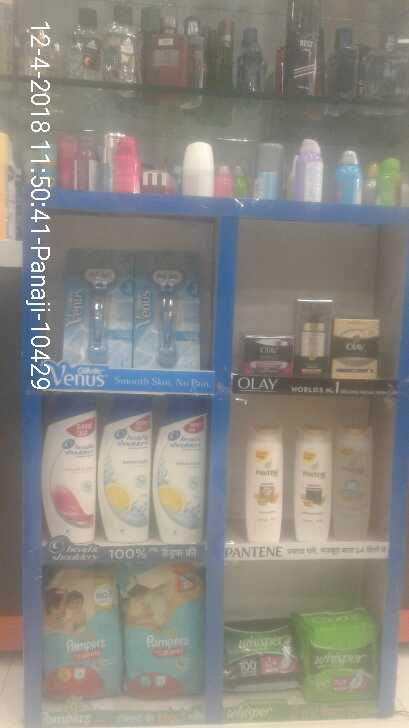venus: (60, 248, 132, 371), (133, 250, 200, 369)
